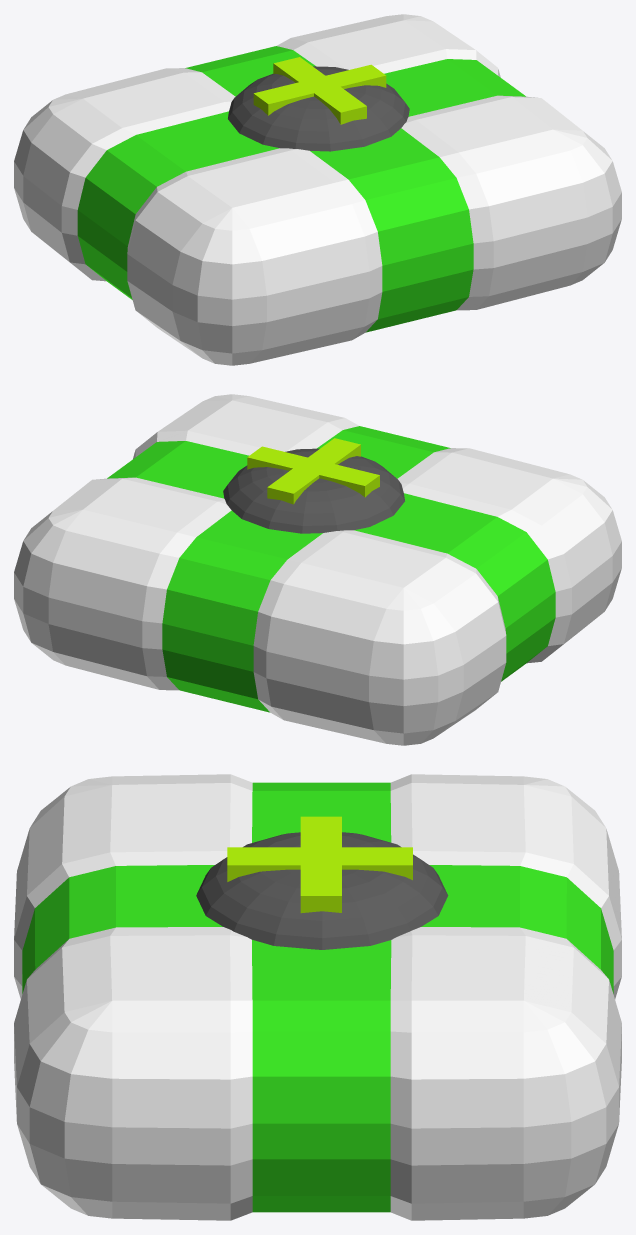
File: HealthPackP2.FBX
The picture shows the model from 3 angles, top to bottom: view 1: azimuth 30°, elevation 25°; view 2: azimuth 150°, elevation 25°; view 3: azimuth 270°, elevation 25°; orthographic projection. The views are drawn at different scales.
Parts seen in each view (by area): view 1: ChamferBox001, Box001; view 2: ChamferBox001, Box001; view 3: ChamferBox001, Box001.
Boxes of the visible parts, x1,y1,x2,y2 form: ChamferBox001: (14, 14, 621, 365); Box001: (253, 57, 386, 124); ChamferBox001: (14, 394, 621, 745); Box001: (247, 438, 379, 504); ChamferBox001: (14, 774, 621, 1220); Box001: (227, 816, 412, 913).
Bounding box in the file's own units: 24.79 × 11.07 × 21.29.
